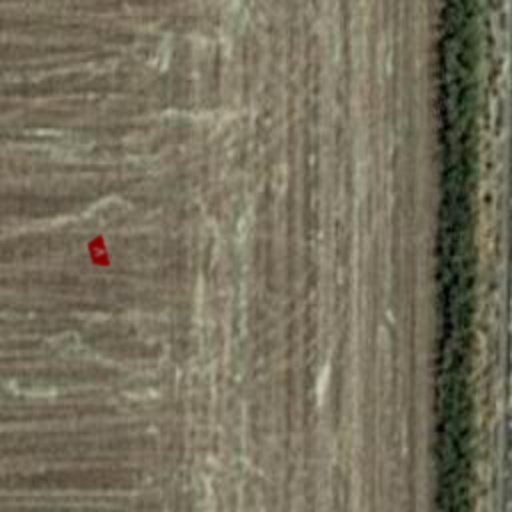trapezoid: (76, 230, 120, 274)
